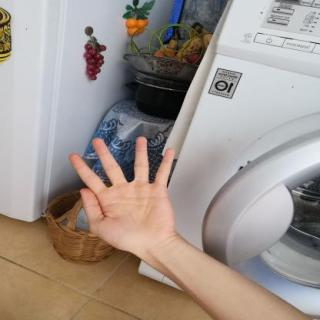SHEEN: (61, 129, 184, 256)
